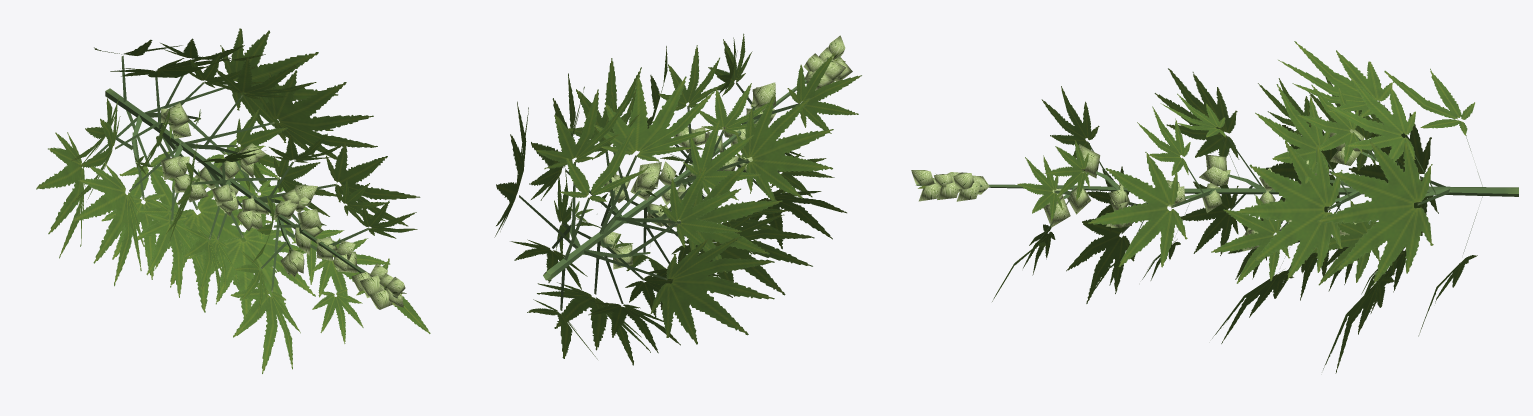
Rendered from p_male_landrace_flowering_c0_cards.obj.
The picture shows the model from 3 angles, left to right: view 1: azimuth 30°, elevation 25°; view 2: azimuth 150°, elevation 25°; view 3: azimuth 270°, elevation 25°; orthographic projection. The views are drawn at different scales.
Size of the model in its own units: 1.56 by 1.39 by 2.28.
1 material, 1 textured.
